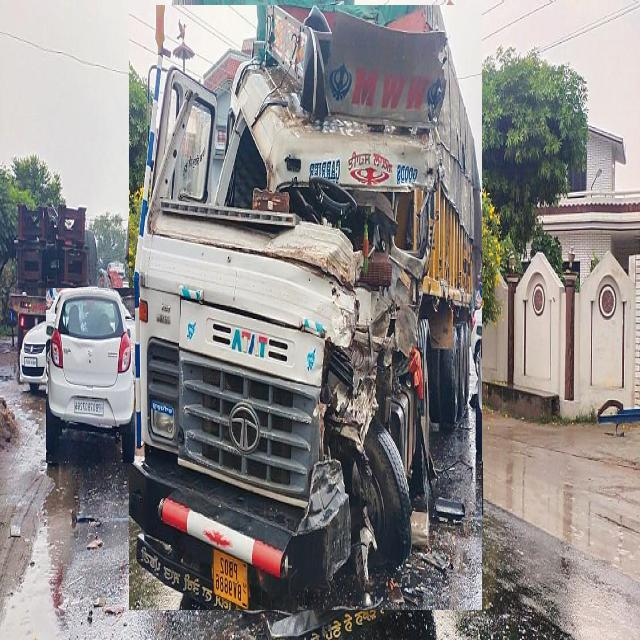accident: (129, 5, 482, 610)
car: (46, 289, 135, 463)
